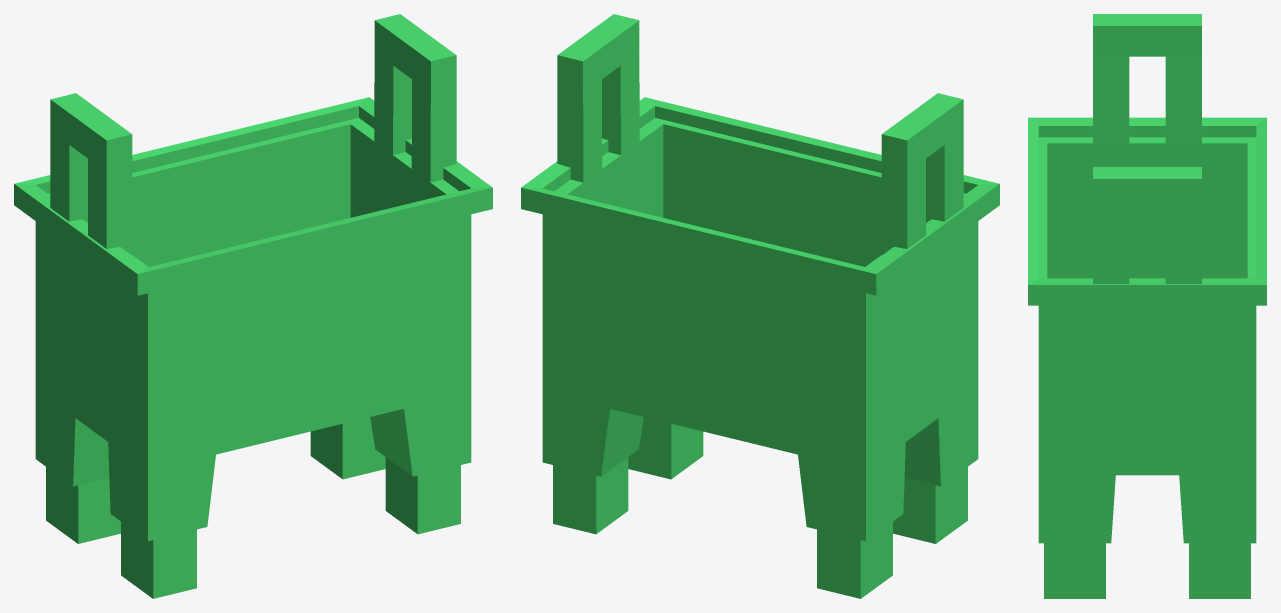
The model's file is stand001.fbx.
3 views of the same model, side by side, from view 1: azimuth 30°, elevation 25°; view 2: azimuth 150°, elevation 25°; view 3: azimuth 270°, elevation 25° (orthographic). The views are drawn at different scales.
Parts seen in each view (by area): view 1: Cube; view 2: Cube; view 3: Cube.
Part boxes in pixels (<box>): Cube: <box>14,14,492,598</box>; Cube: <box>521,14,999,598</box>; Cube: <box>1028,14,1266,598</box>.
Bounding box in the file's own units: 365 × 436 × 220.
